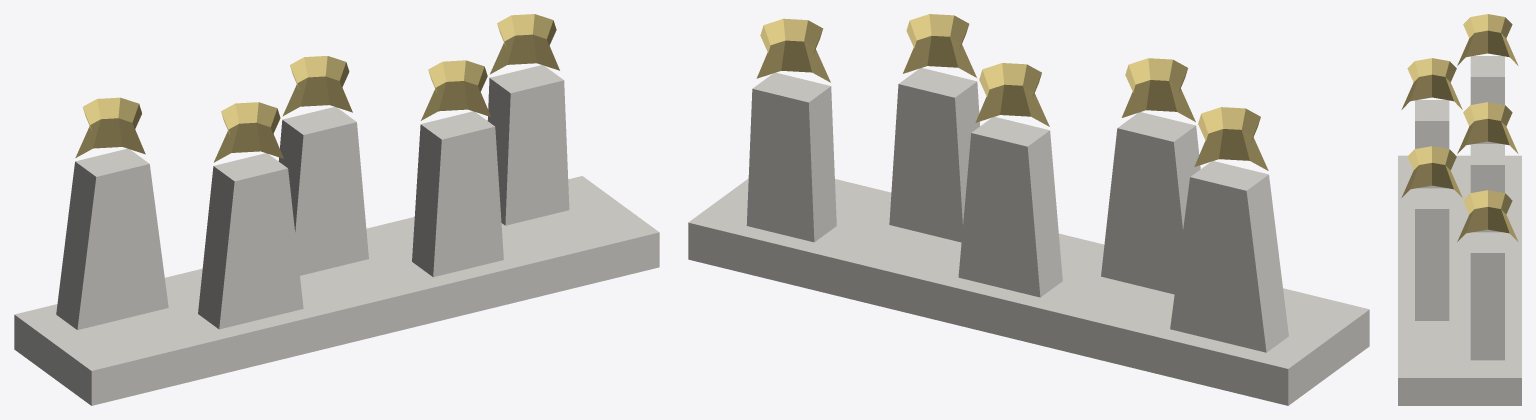
The model's file is mythic-underworld-and-olympus-boundary-stones-ccf69e23__21401.glb.
The picture shows the model from 3 angles, left to right: view 1: azimuth 30°, elevation 25°; view 2: azimuth 150°, elevation 25°; view 3: azimuth 270°, elevation 25°; orthographic projection. The views are drawn at different scales.
Parts seen in each view (by area): view 1: boundary-stones; view 2: boundary-stones; view 3: boundary-stones.
Boxes of the visible parts, x1,y1,x2,y2 form: boundary-stones: (14, 14, 659, 405); boundary-stones: (688, 14, 1369, 405); boundary-stones: (1398, 14, 1521, 405).
Bounding box in the file's own units: 3.4 × 1.35 × 0.7998.
